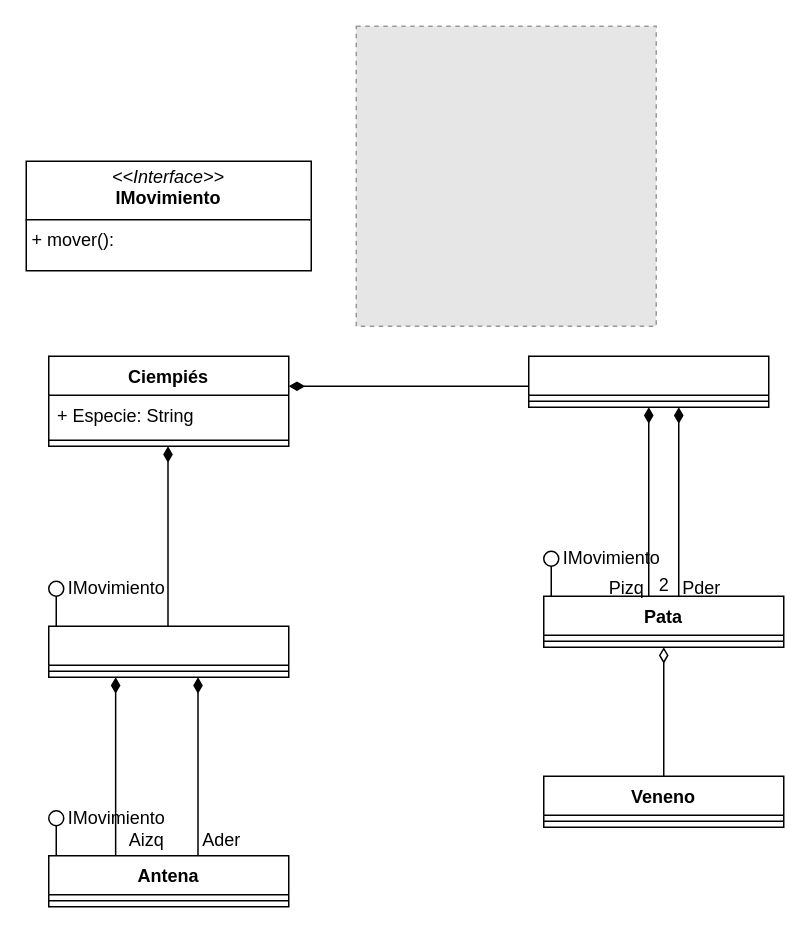
The diagram is 810 pixels wide and 933 high, and some of its shapes have lost their labels. Grey dashed boxes stand in for pictures. Here are the shapes that lost their labels. From the top down, the centre of each, then its label:
At (648,381): "Segmento".
At (168,651): "Cabeza".
